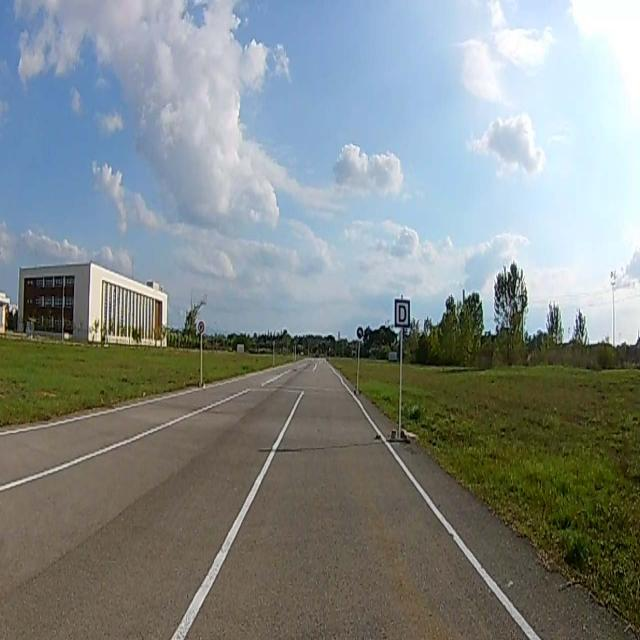durak: (395, 299, 410, 329)
